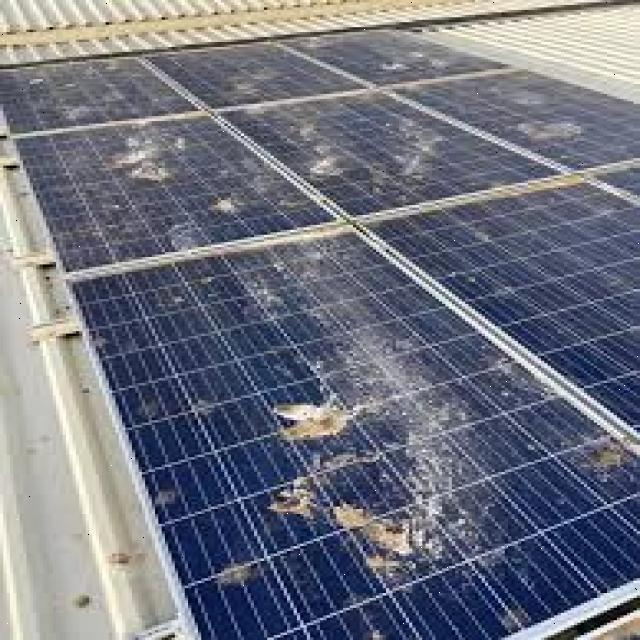Anomaly Solar Panel: (65, 222, 640, 639), (359, 174, 639, 436), (14, 83, 339, 278), (213, 87, 572, 218), (384, 67, 638, 171), (2, 57, 207, 135), (144, 41, 374, 110), (279, 29, 517, 89)
Surface Contaminant: (218, 216, 521, 613), (462, 338, 636, 486), (269, 88, 460, 210), (21, 61, 149, 130), (105, 120, 192, 179), (550, 185, 636, 239), (511, 96, 584, 156), (384, 48, 444, 74), (222, 65, 278, 91), (298, 38, 342, 52)
